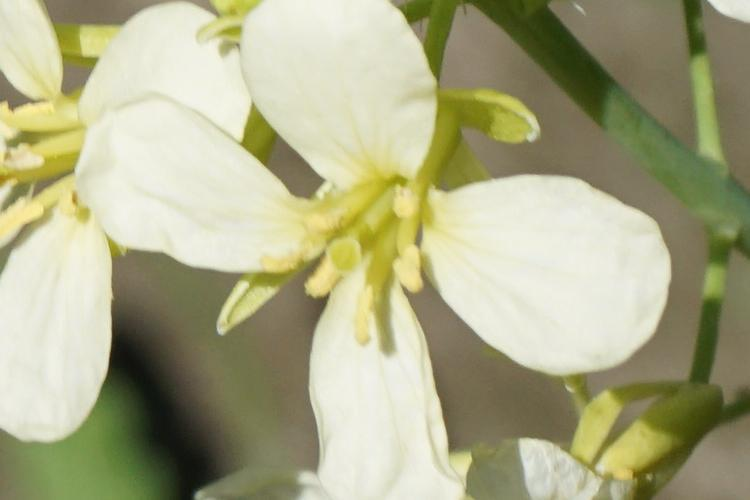white: (115, 9, 675, 498), (7, 8, 263, 445)
